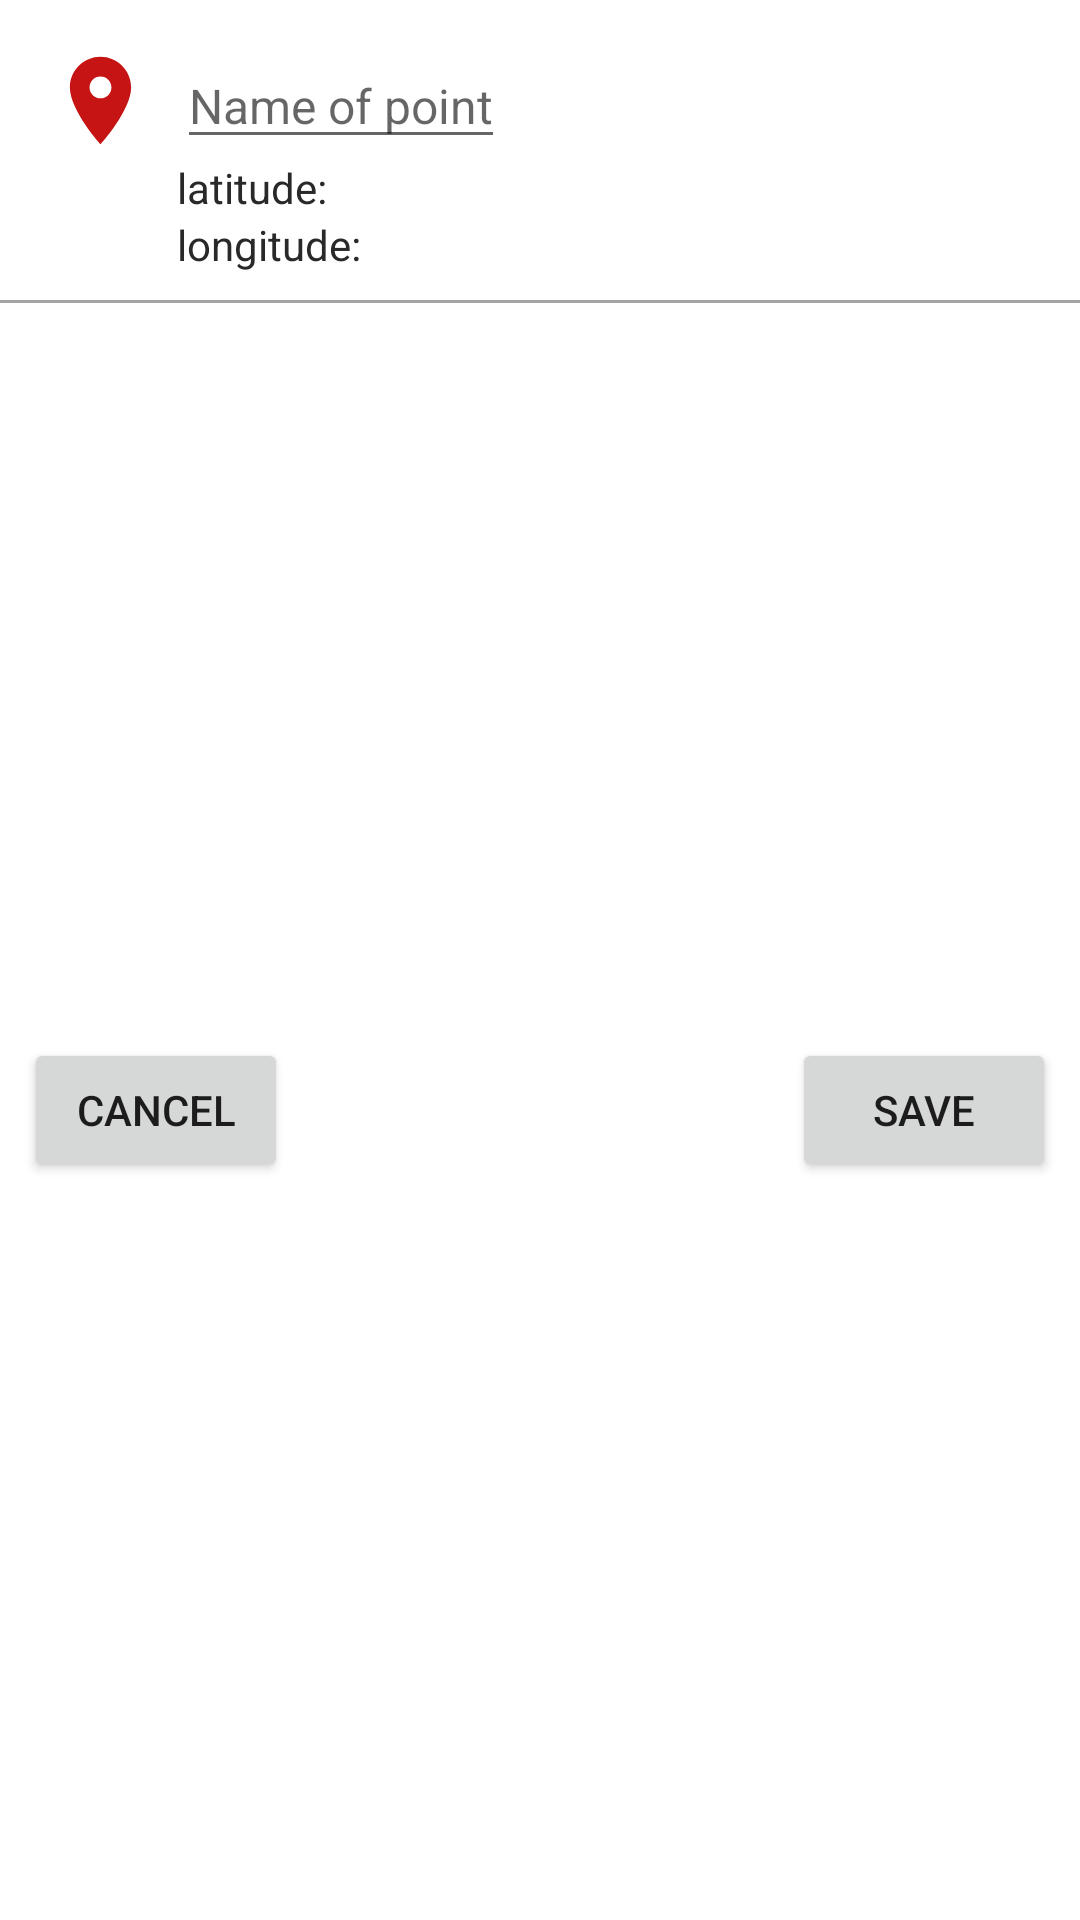

Screen size 1080*1920. Icon name, then its center in pixels as [x,y]:
location: [100,100]
